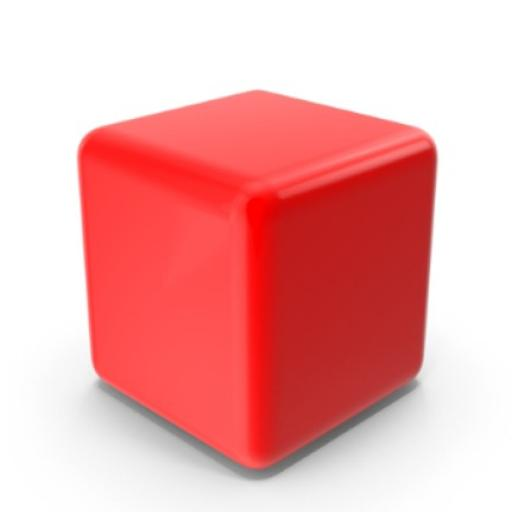red_block: (14, 44, 512, 512)
